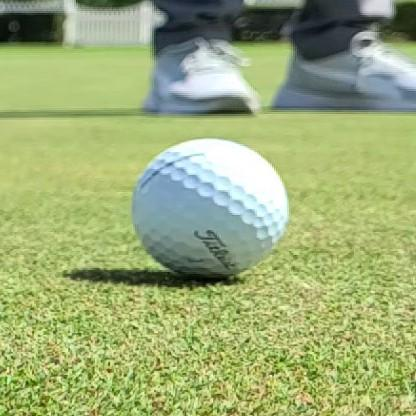golfball: (132, 138, 289, 279)
